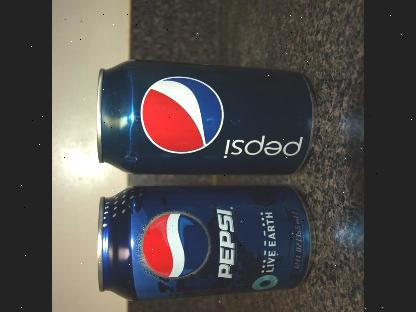Can: (92, 55, 318, 182), (89, 178, 312, 304)
